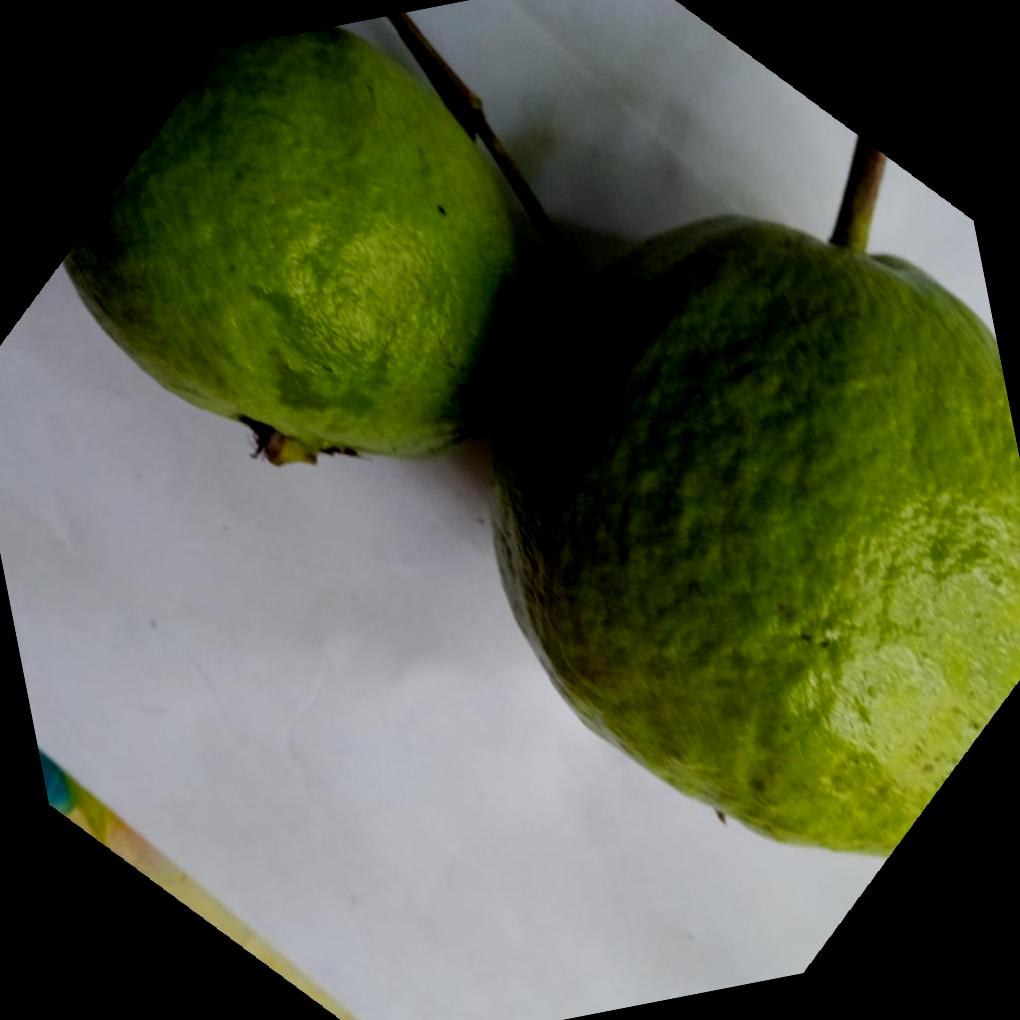FreshGuava: (59, 21, 1020, 853)
